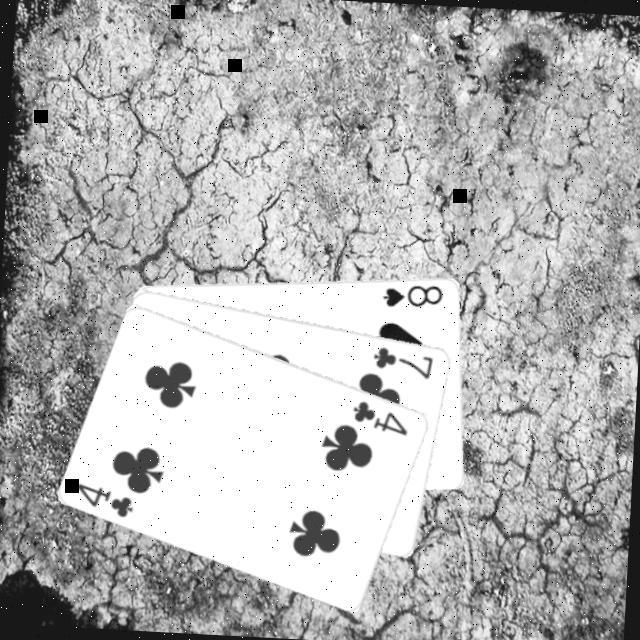4C: (72, 479, 138, 521), (348, 396, 412, 438)
7C: (369, 342, 437, 381)
8S: (378, 279, 446, 311)
